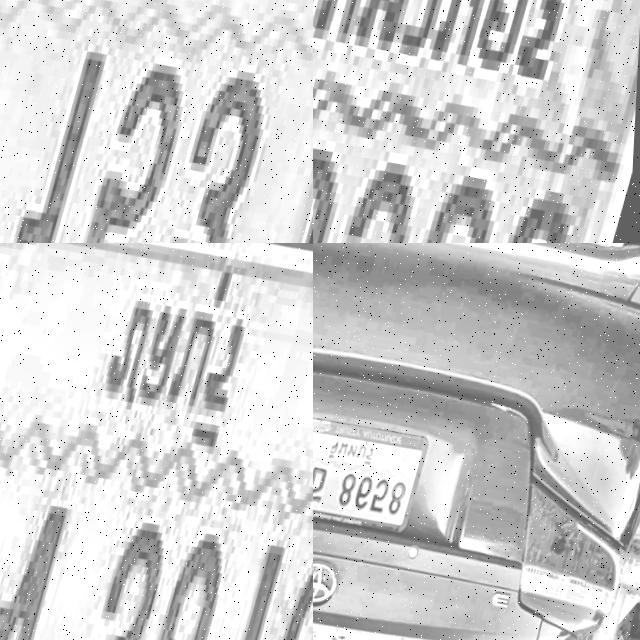license-plate: (0, 243, 313, 640), (313, 0, 640, 243), (0, 0, 313, 243), (313, 409, 436, 551)
